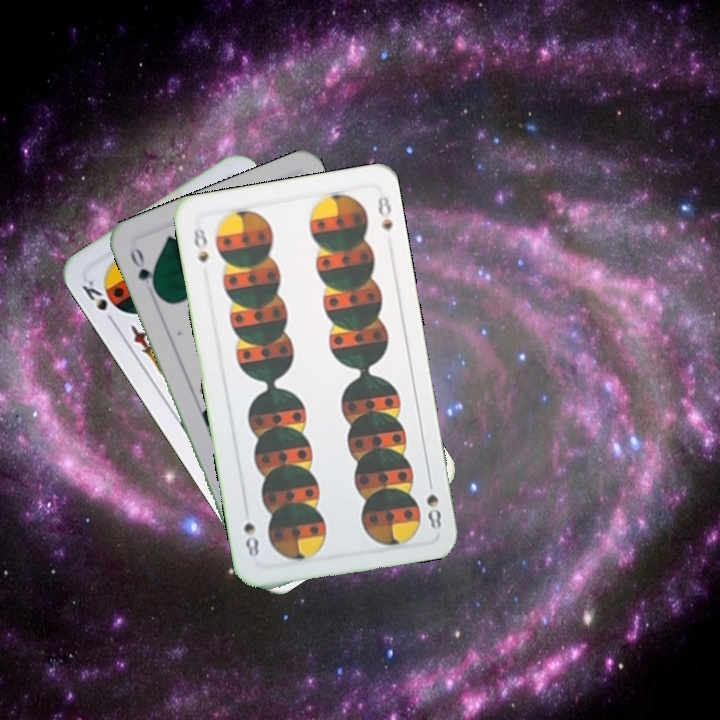GO: (125, 243, 161, 299)
S8: (422, 473, 446, 533), (189, 224, 211, 265)
SK: (78, 275, 119, 328)
